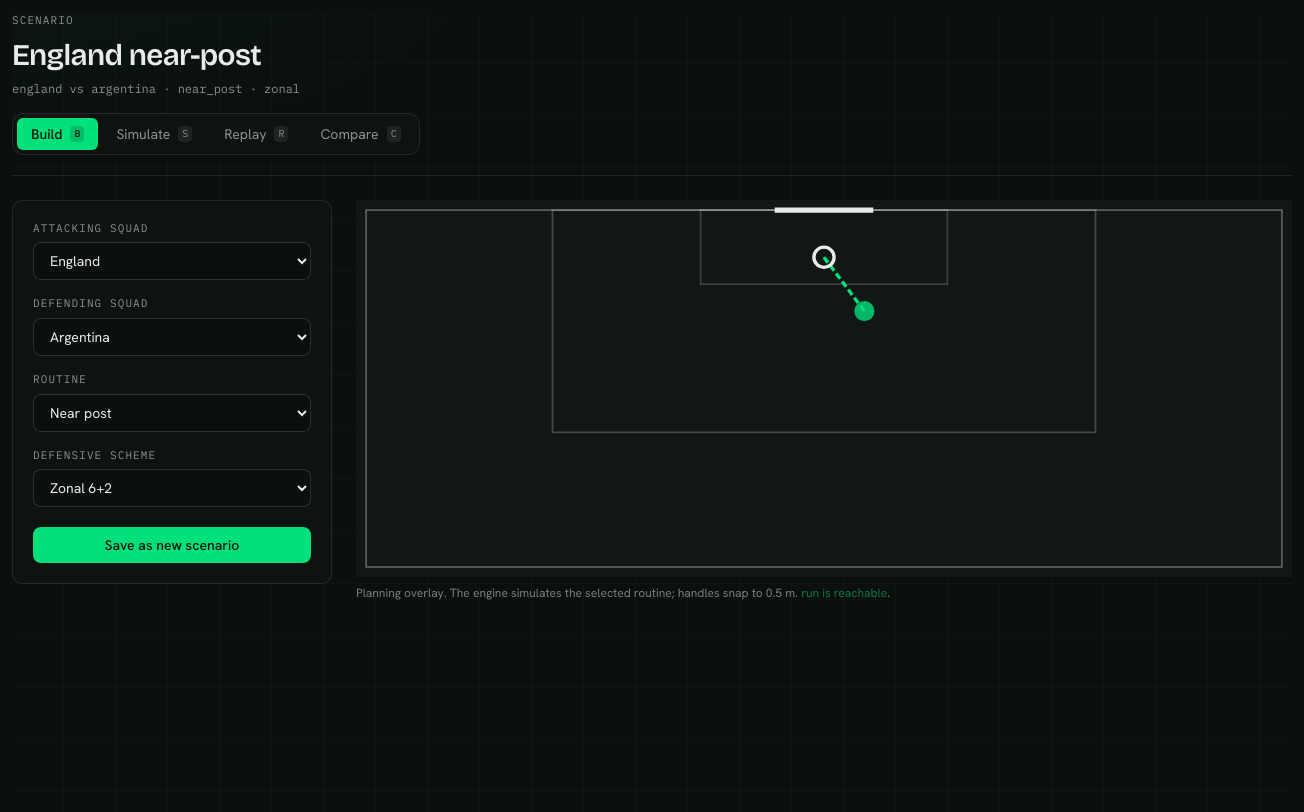
Scenario: mode buttons switch modes too
Expected: the heading "England near-post" is shown, [12,36,261,72]
Click the button "Simulate S": (154, 134) [102,118,206,150]
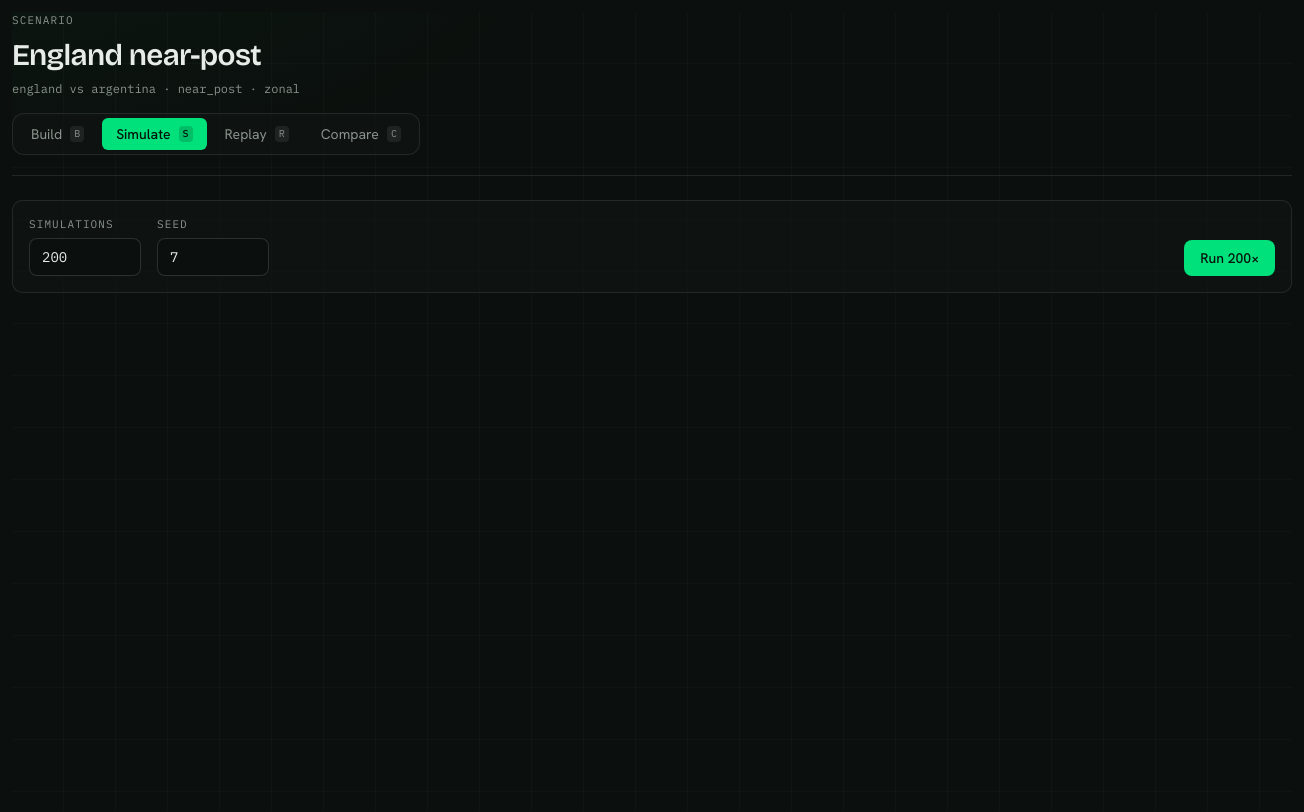
Expected: the button "Run 200×" is shown, [1184,240,1275,276]
